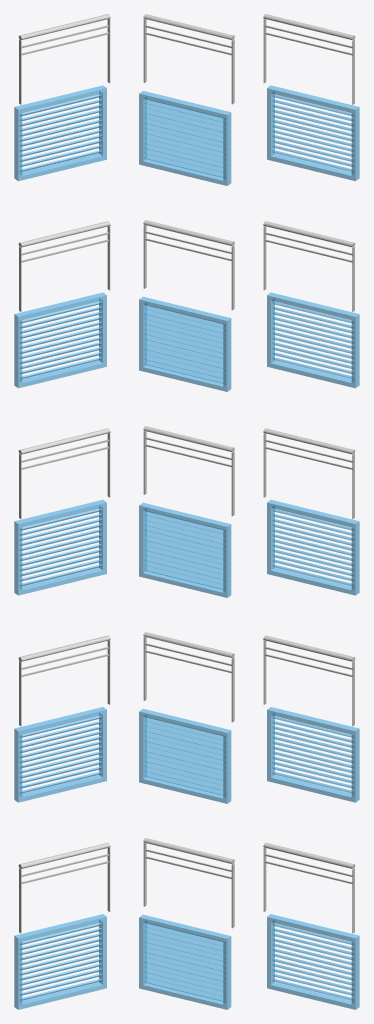
The picture shows the model from 3 angles, left to right: view 1: azimuth 30°, elevation 25°; view 2: azimuth 150°, elevation 25°; view 3: azimuth 330°, elevation 25°; orthographic projection.
Size of the model in its own units: 1.31 by 13.65 by 0.1896.
